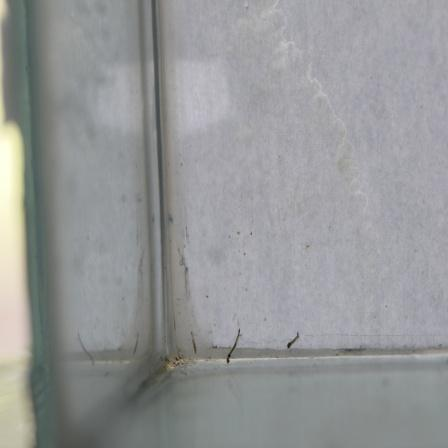Jentik-Nyamuk: (223, 326, 246, 365), (282, 327, 303, 353)
